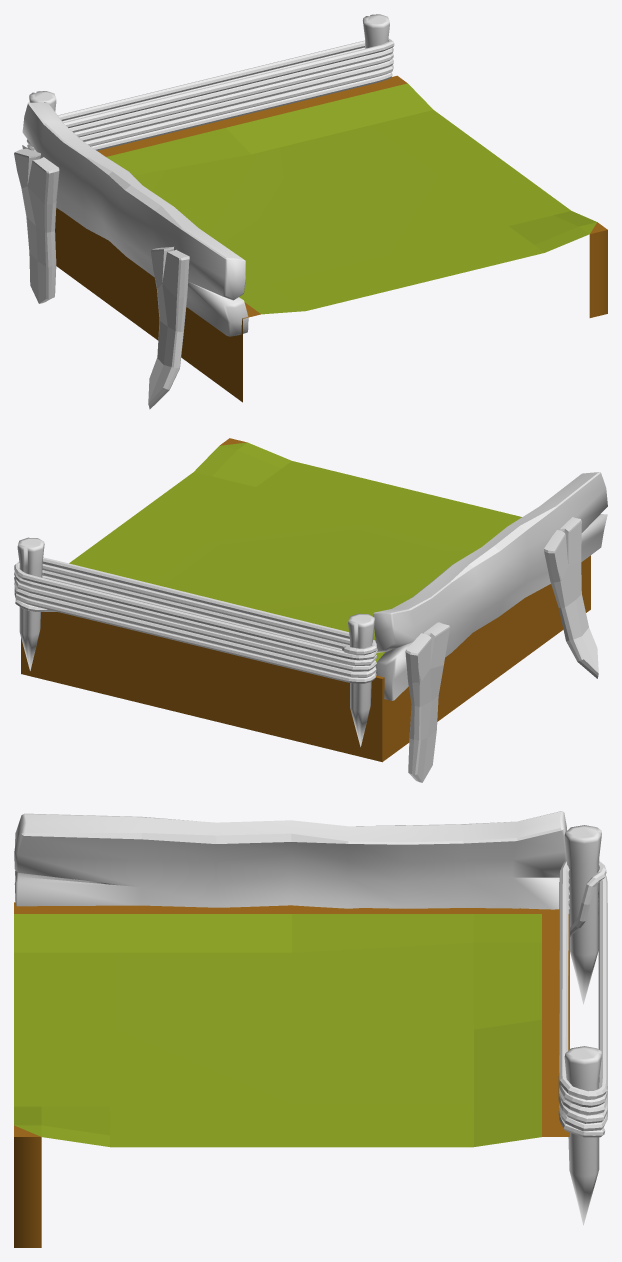
The model's file is Turn_Sloped01.fbx.
The picture shows the model from 3 angles, top to bottom: view 1: azimuth 30°, elevation 25°; view 2: azimuth 150°, elevation 25°; view 3: azimuth 270°, elevation 25°; orthographic projection. The views are drawn at different scales.
Visible parts, largest first — view 1: SM_Bld_Sign_04.001; view 2: SM_Bld_Sign_04.001; view 3: SM_Bld_Sign_04.001.
Part boxes in pixels (bbox=[...]): SM_Bld_Sign_04.001: bbox=[14, 14, 607, 409]; SM_Bld_Sign_04.001: bbox=[14, 438, 607, 782]; SM_Bld_Sign_04.001: bbox=[14, 811, 607, 1247].
Size of the model in its own units: 229 by 96.31 by 214.
